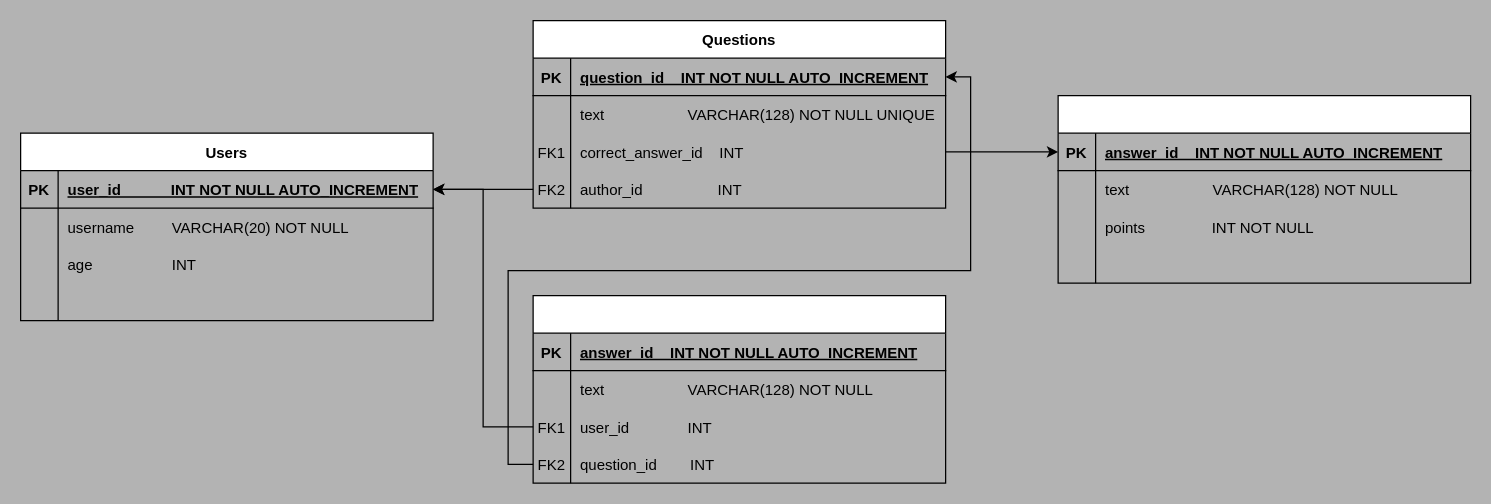
Some shapes in this 1491 by 504 pixel diagram are drawn without their labels. Each missing label, with the box of its shape:
CorrectAnswers: (1057, 94, 1471, 283)
UserAnswers: (532, 294, 946, 483)
